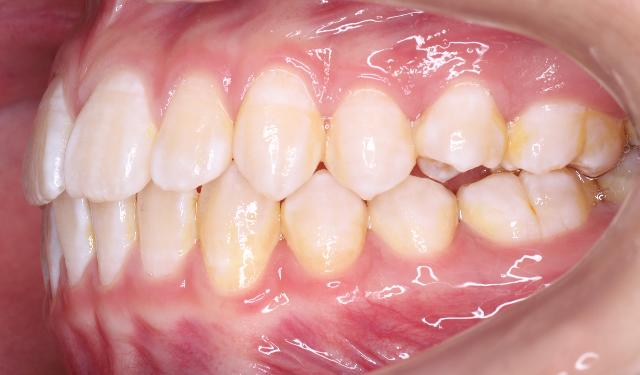canine class II 1/4: (195, 60, 375, 308)
molar class III 1/4: (459, 92, 629, 247)
